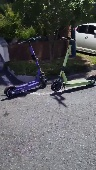beam: (3, 35, 51, 98)
gcooter: (51, 35, 96, 92)
